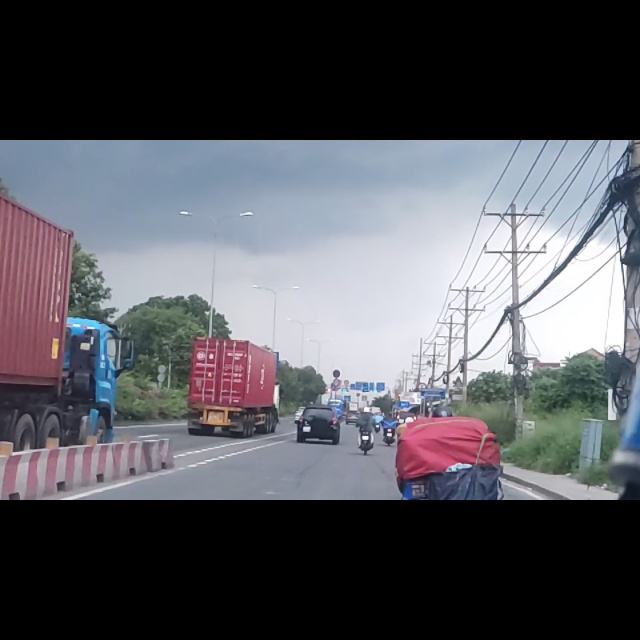bien_cam: (333, 408, 341, 423)
